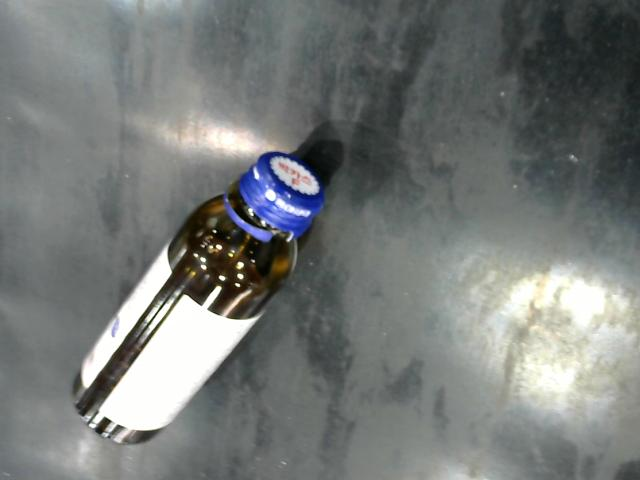glass: (62, 148, 326, 454)
